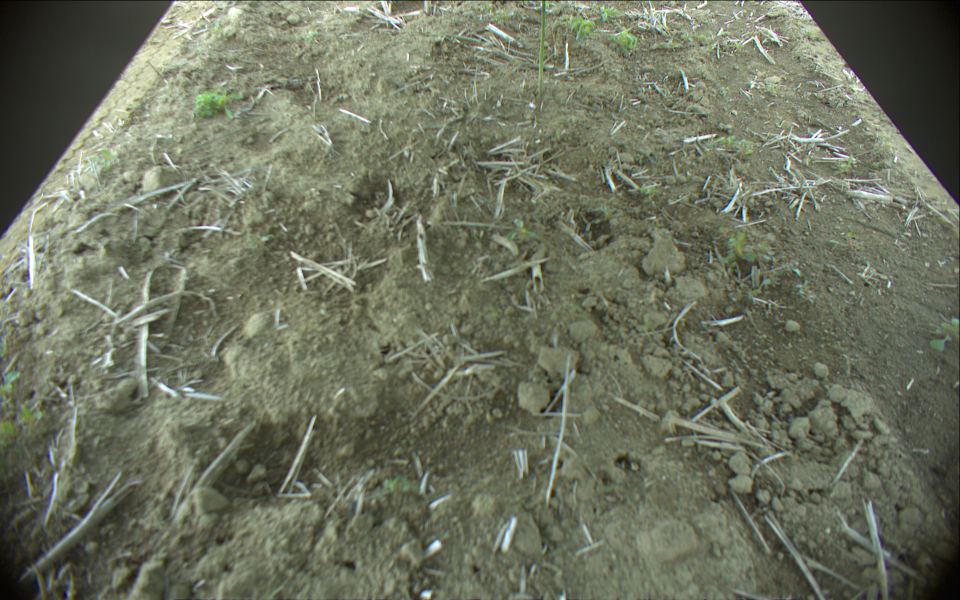aspa: (536, 1, 548, 102)
